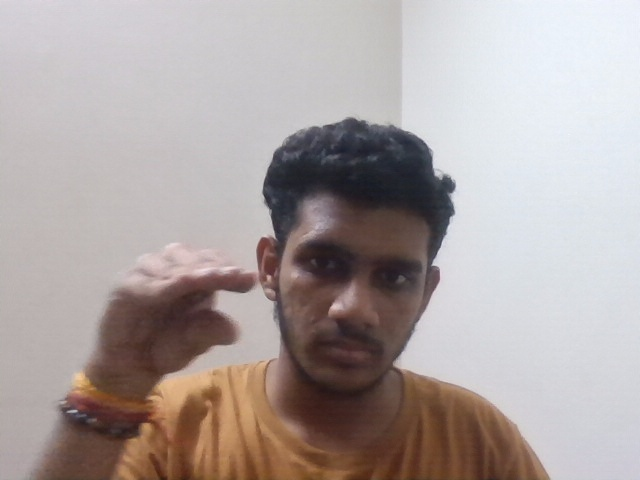no: (84, 244, 263, 380)
